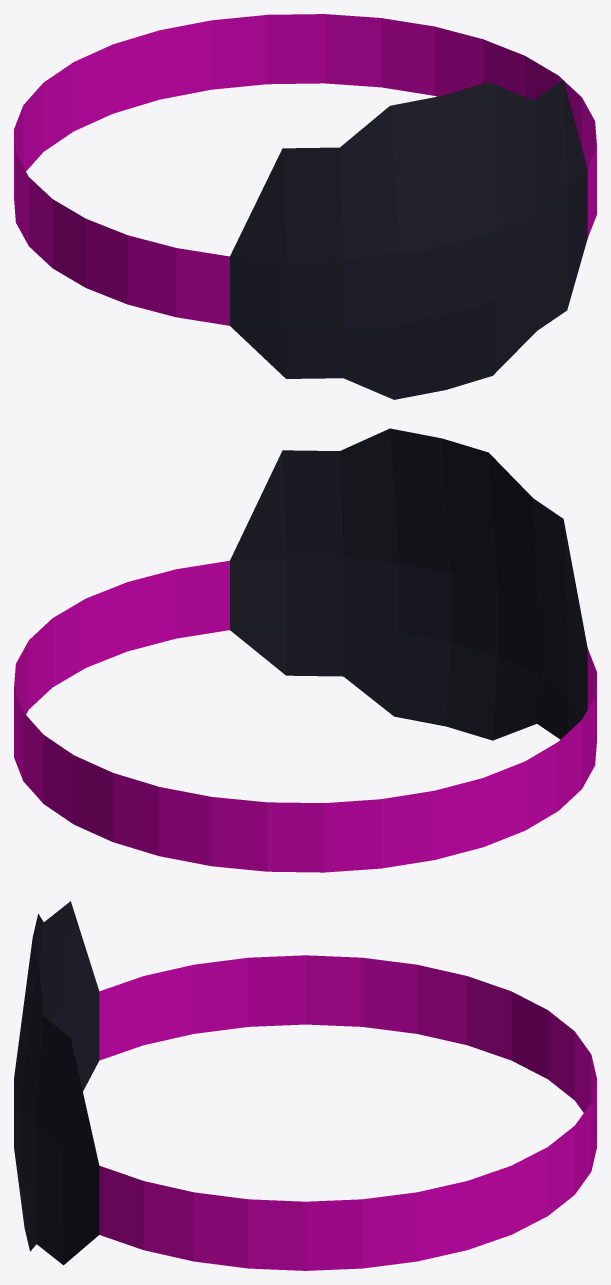
The model's file is kneeGuard.fbx.
The picture shows the model from 3 angles, top to bottom: view 1: azimuth 30°, elevation 25°; view 2: azimuth 150°, elevation 25°; view 3: azimuth 270°, elevation 25°; orthographic projection.
Visible parts, largest first — view 1: Cylinder.001; view 2: Cylinder.001; view 3: Cylinder.001.
Part boxes in pixels (bbox=[...]): Cylinder.001: bbox=[14, 14, 596, 399]; Cylinder.001: bbox=[14, 428, 596, 872]; Cylinder.001: bbox=[14, 901, 596, 1270].
Size of the model in its own units: 176 by 96.73 by 176.
